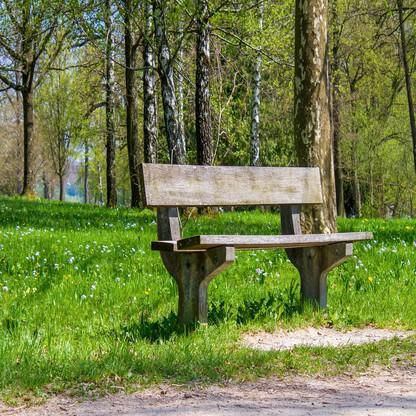obstacle: (138, 155, 381, 333)
